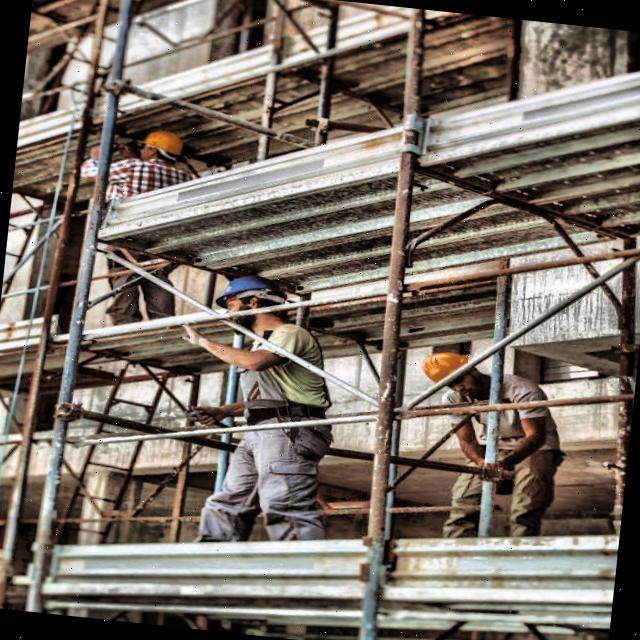helmet: (202, 265, 296, 333), (417, 346, 490, 398), (133, 122, 187, 169)
